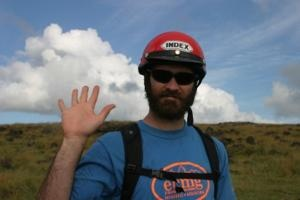helmet: (137, 29, 208, 74)
person with partial safety: (121, 31, 240, 193)
